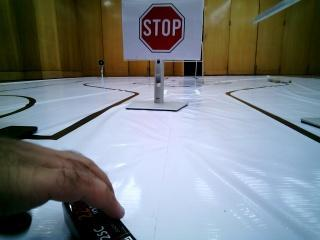stop: (126, 0, 196, 60)
